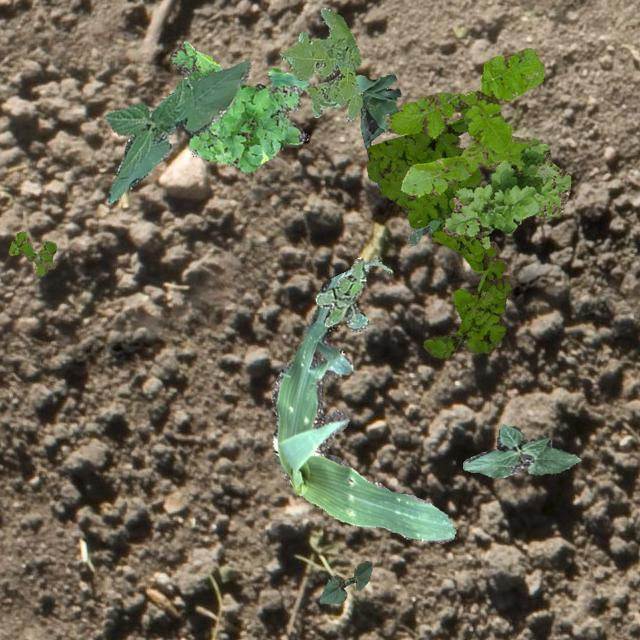crop: (270, 256, 454, 542), (104, 60, 250, 202), (462, 424, 580, 476), (354, 74, 400, 150), (318, 560, 370, 602)
weed: (366, 118, 512, 358), (170, 41, 310, 170), (384, 48, 544, 154), (442, 144, 570, 248), (400, 124, 540, 196), (278, 6, 362, 120), (314, 256, 368, 331), (8, 231, 56, 275), (406, 217, 442, 244)
